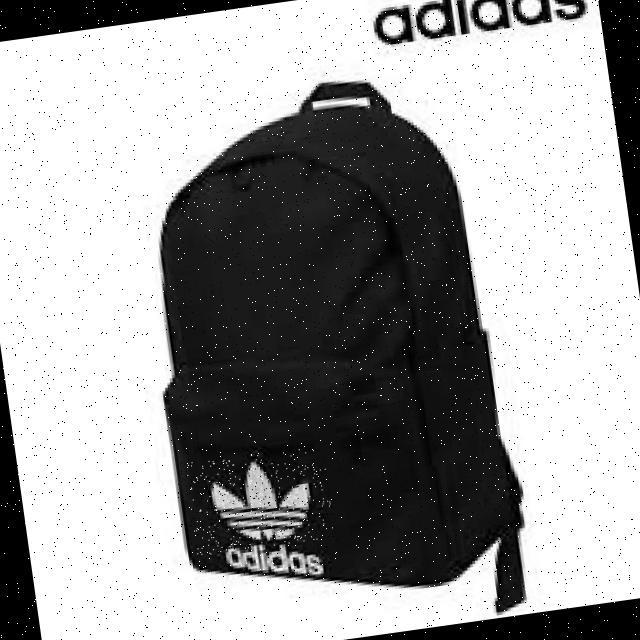Adidas: (185, 444, 337, 557)
